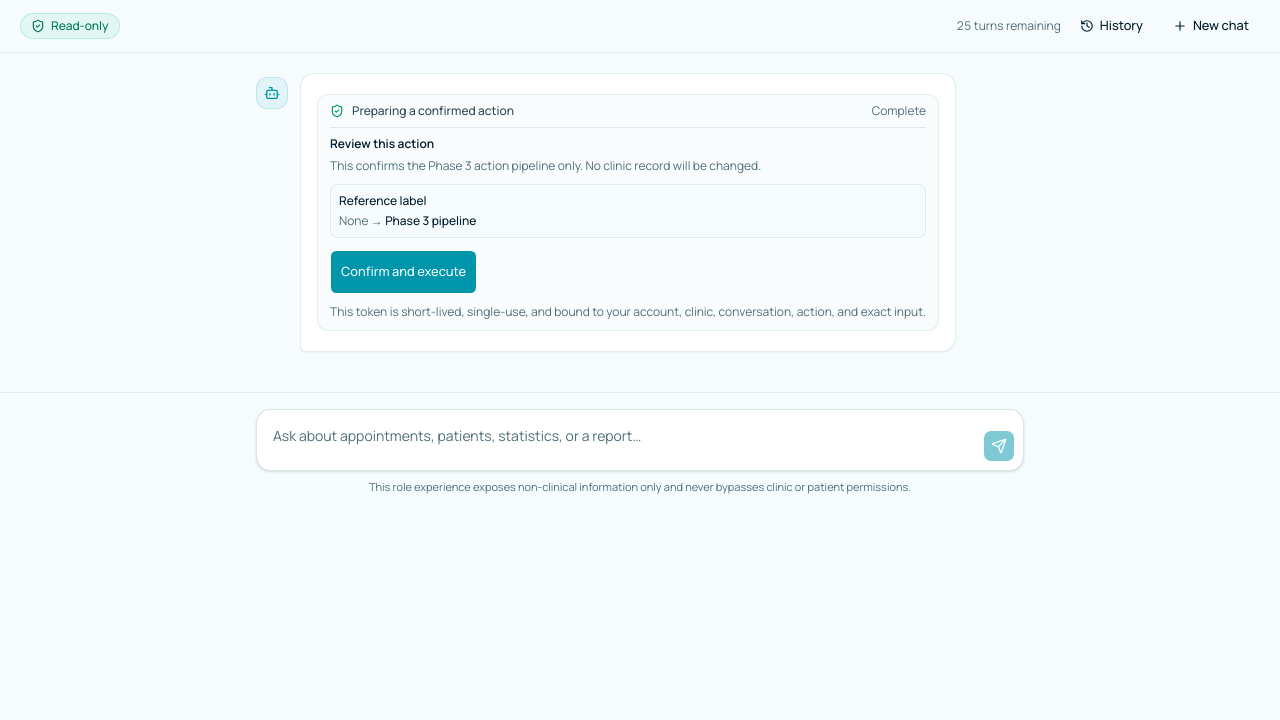
Scenario: Phase 3 action confirmation UI › renders the specific confirmation_replayed state
The image size is (1280, 720).
Click the button "Confirm and execute" at (404, 272), box [330, 250, 477, 294]
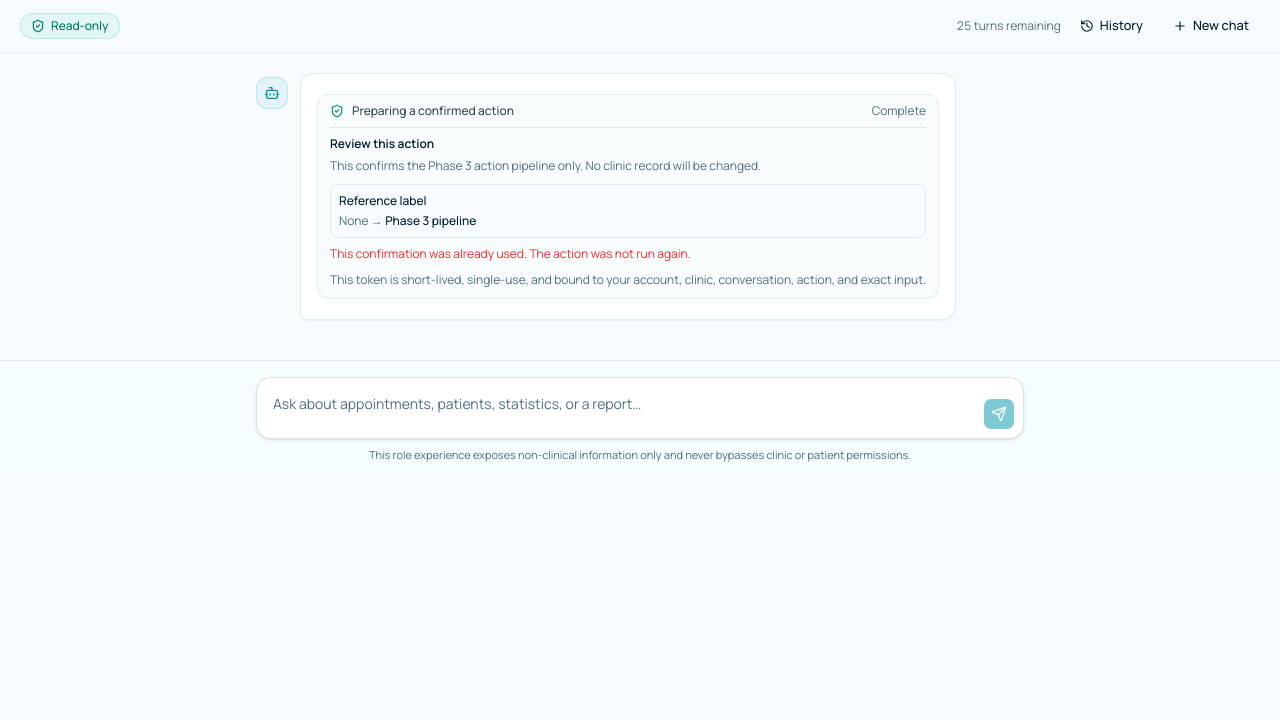
Result: the message reads "This confirmation was already used. The action was not run again." at [330, 245, 691, 262]
